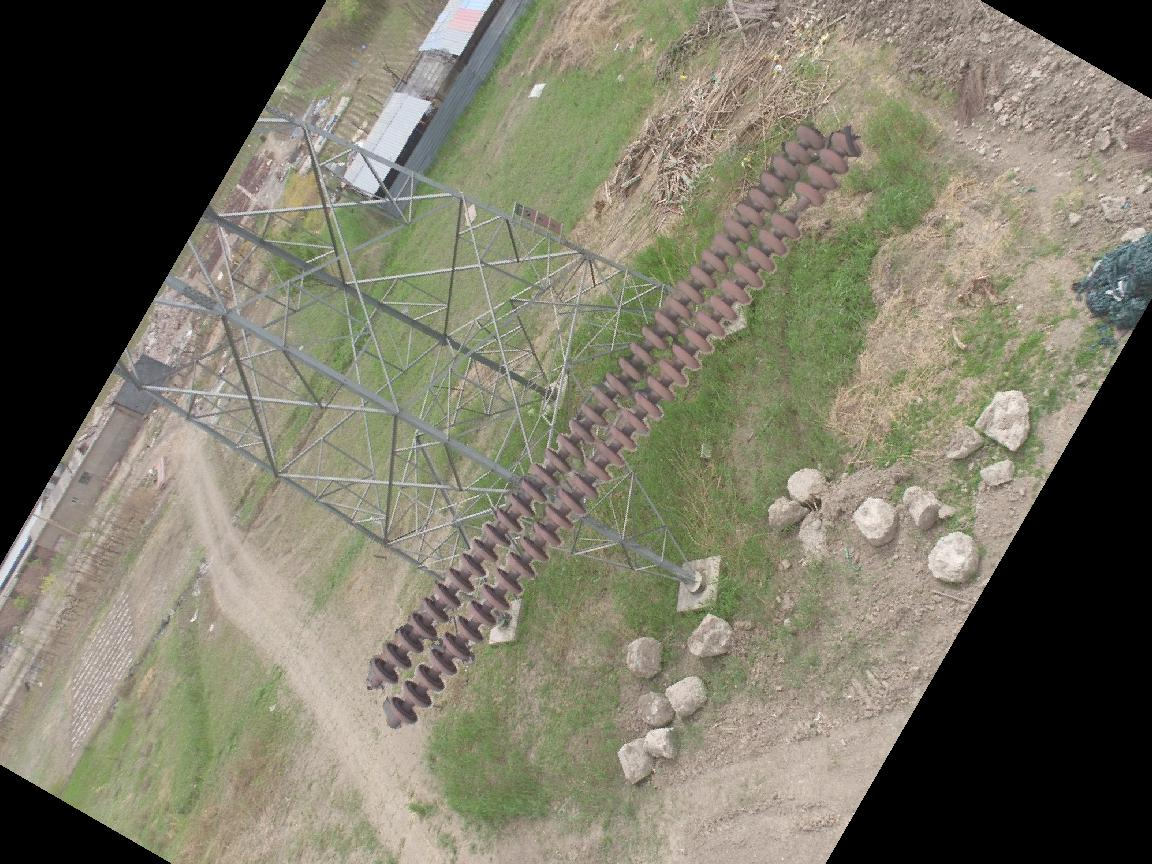insulator: (362, 120, 864, 736)
insulator_stringdrop: (767, 179, 826, 242)
